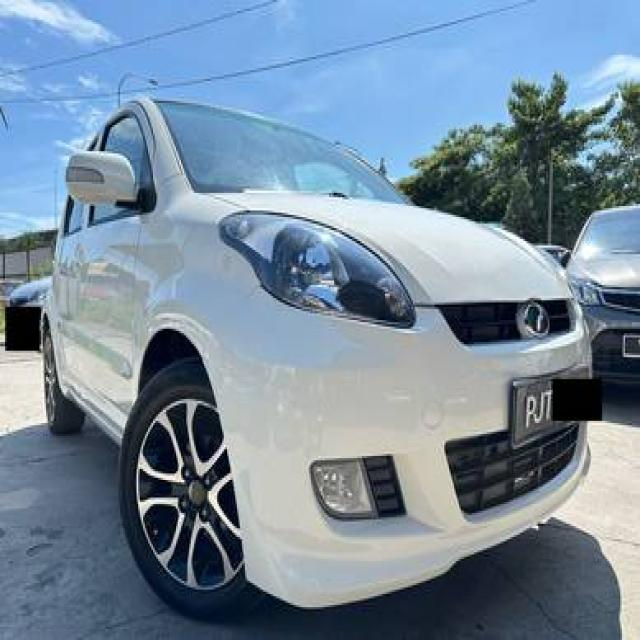PeroduaMyvi: (38, 92, 600, 618)
